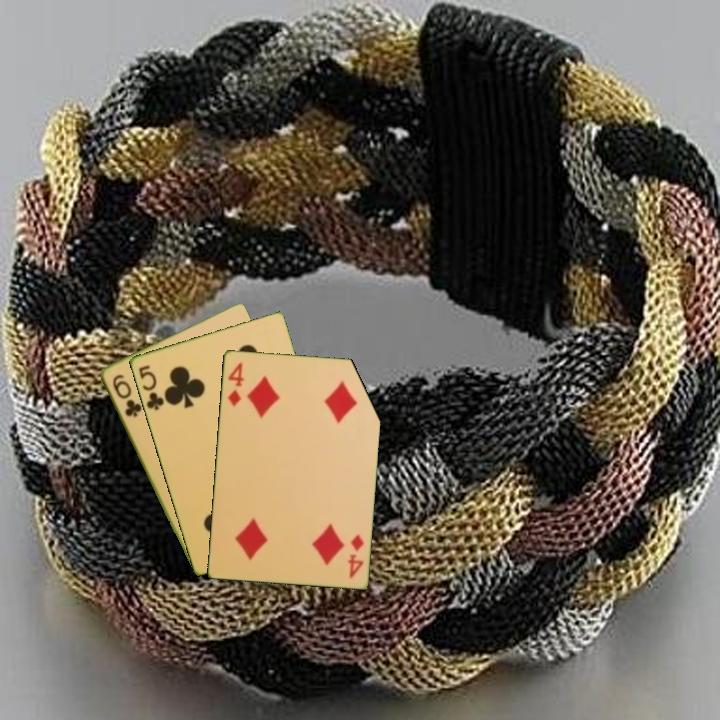4d: (344, 530, 366, 581), (224, 359, 246, 409)
5c: (135, 361, 166, 413)
6c: (108, 370, 144, 420)
